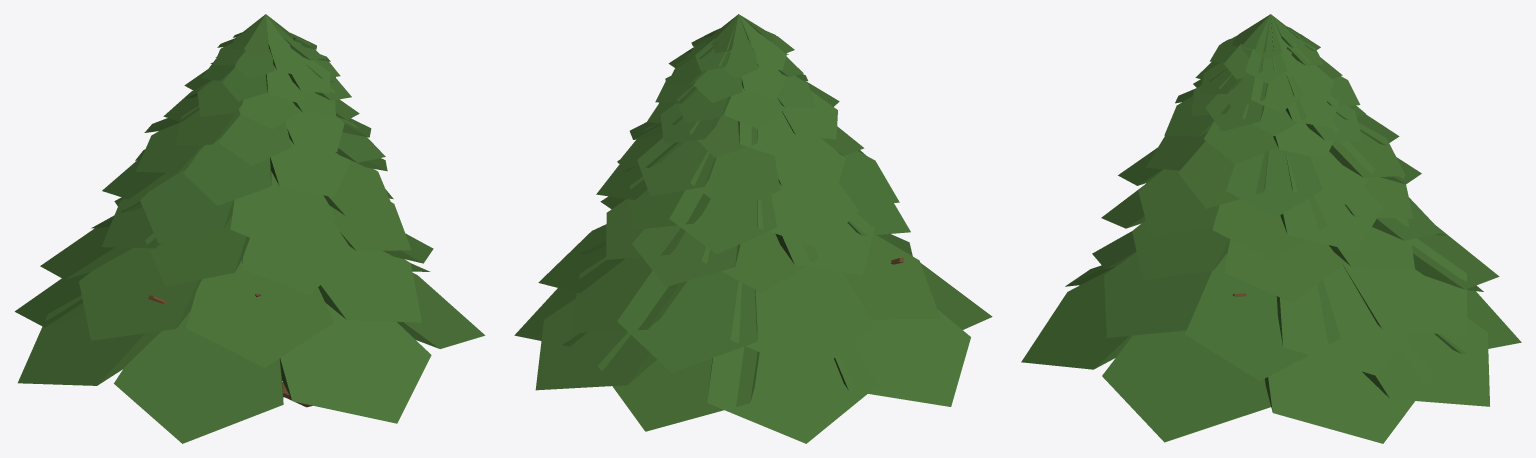
Rendered from Assets.fbx.
The picture shows the model from 3 angles, left to right: view 1: azimuth 30°, elevation 25°; view 2: azimuth 150°, elevation 25°; view 3: azimuth 270°, elevation 25°; orthographic projection. The views are drawn at different scales.
Visible parts, largest first — view 1: Tree 1; view 2: Tree 1; view 3: Tree 1.
Boxes of the visible parts, x1,y1,x2,y2 form: Tree 1: [15, 14, 485, 443]; Tree 1: [514, 14, 992, 443]; Tree 1: [1021, 14, 1521, 443].
Size of the model in its own units: 2160 by 1871 by 2217.
